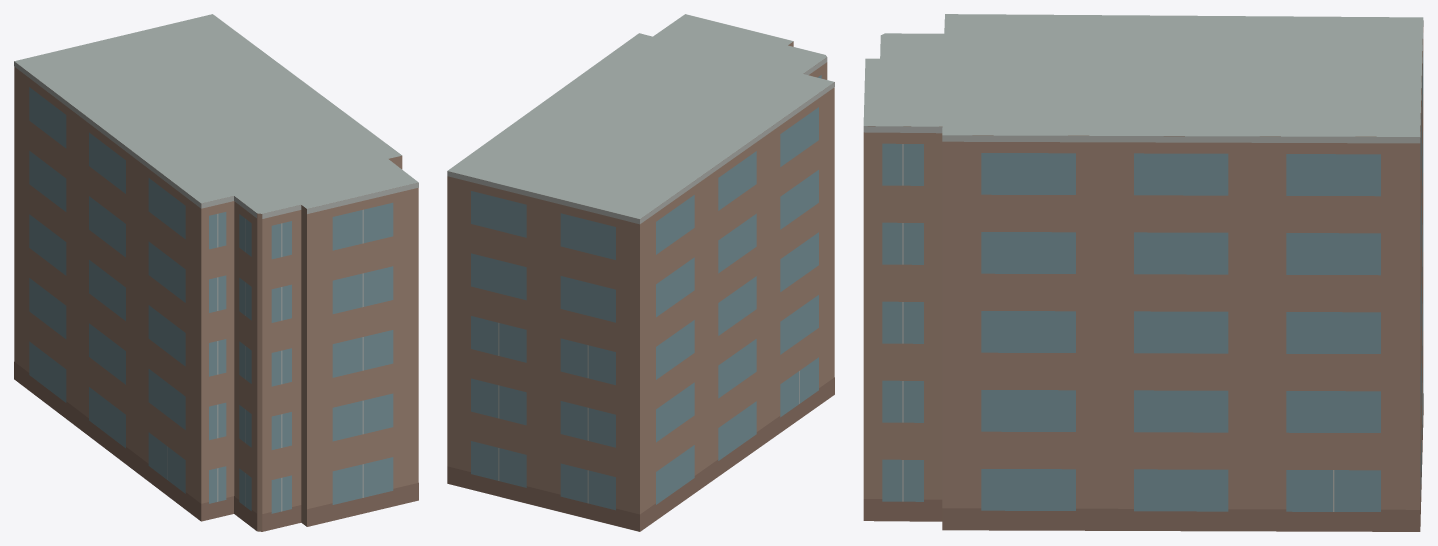
Rendered from survey-upis-32584330.glb.
The picture shows the model from 3 angles, left to right: view 1: azimuth 30°, elevation 25°; view 2: azimuth 150°, elevation 25°; view 3: azimuth 270°, elevation 25°; orthographic projection. The views are drawn at different scales.
Parts seen in each view (by area): view 1: survey-upis-32584330.tmp; view 2: survey-upis-32584330.tmp; view 3: survey-upis-32584330.tmp.
Part boxes in pixels (x1,y1,x2,y2): survey-upis-32584330.tmp: [14, 14, 418, 531]; survey-upis-32584330.tmp: [447, 14, 834, 531]; survey-upis-32584330.tmp: [863, 14, 1423, 531].
Size of the model in its own units: 9.96 by 14.9 by 19.15.
